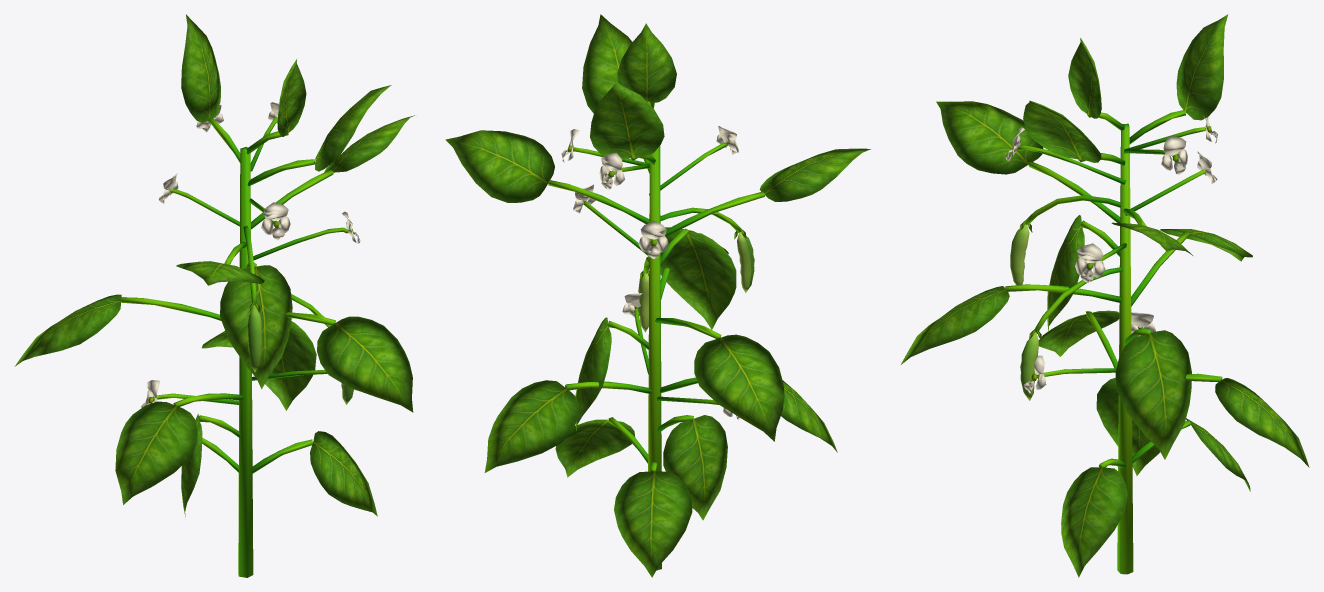
The model's file is NP_GreenBean_Flowering_LOD1.fbx.
3 renders of one model, left to right at view 1: azimuth 30°, elevation 25°; view 2: azimuth 150°, elevation 25°; view 3: azimuth 270°, elevation 25°, orthographic. The views are drawn at different scales.
Parts seen in each view (by area): view 1: NP_GreenBean_Flowering; view 2: NP_GreenBean_Flowering; view 3: NP_GreenBean_Flowering.
Boxes of the visible parts, x1=… form: NP_GreenBean_Flowering: x1=14, y1=14, x2=414, y2=577; NP_GreenBean_Flowering: x1=445, y1=14, x2=870, y2=577; NP_GreenBean_Flowering: x1=901, y1=14, x2=1309, y2=577.
Size of the model in its own units: 77.22 by 106 by 71.23.
